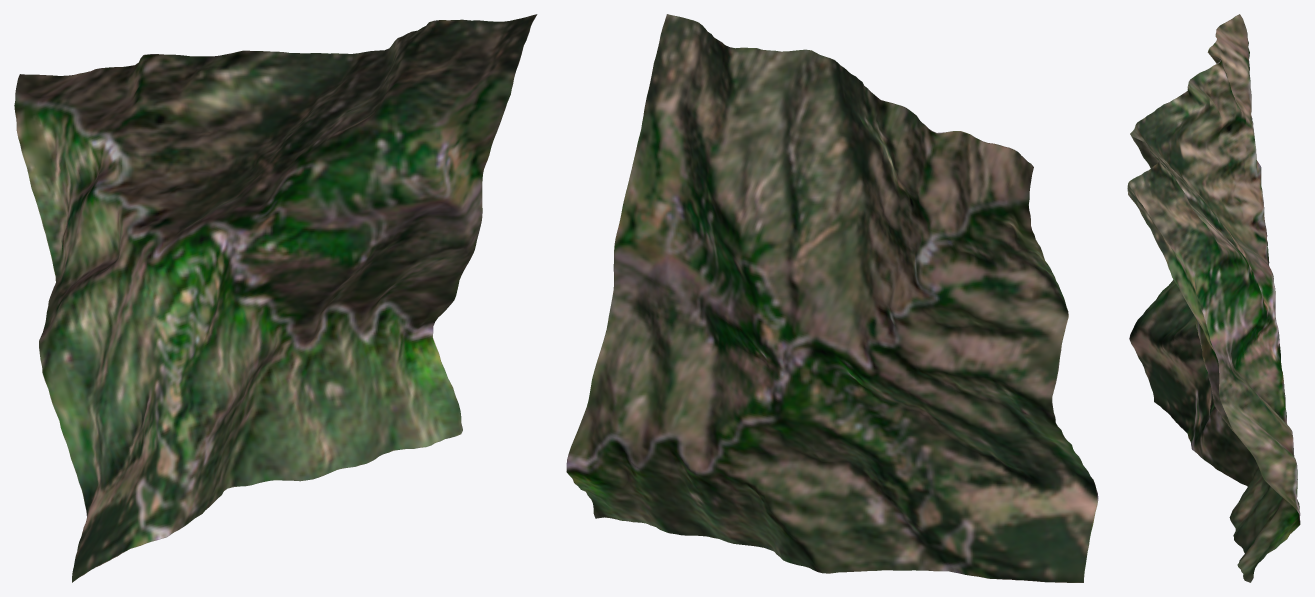
The model's file is ground_far_00_01.obj.
The picture shows the model from 3 angles, left to right: view 1: azimuth 30°, elevation 25°; view 2: azimuth 150°, elevation 25°; view 3: azimuth 270°, elevation 25°; orthographic projection. The views are drawn at different scales.
Parts seen in each view (by area): view 1: ground_far_00_01; view 2: ground_far_00_01; view 3: ground_far_00_01.
Boxes of the visible parts, x1,y1,x2,y2 form: ground_far_00_01: [14, 14, 537, 582]; ground_far_00_01: [566, 14, 1098, 582]; ground_far_00_01: [1127, 14, 1300, 582].
Size of the model in its own units: 2000 by 2000 by 808.
1 material, 1 textured.
